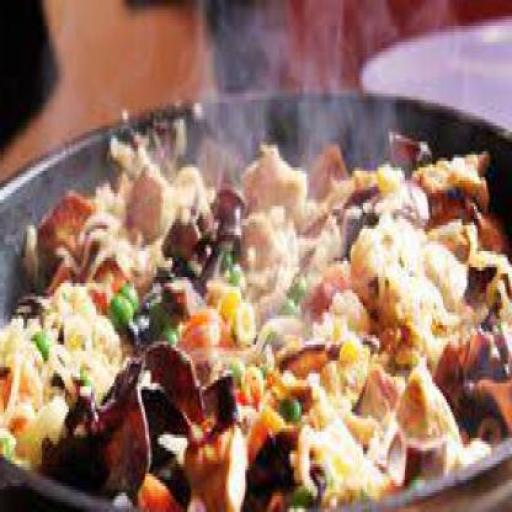biodegradable: (82, 125, 431, 509), (388, 148, 510, 439), (2, 187, 101, 483), (414, 432, 487, 474)
